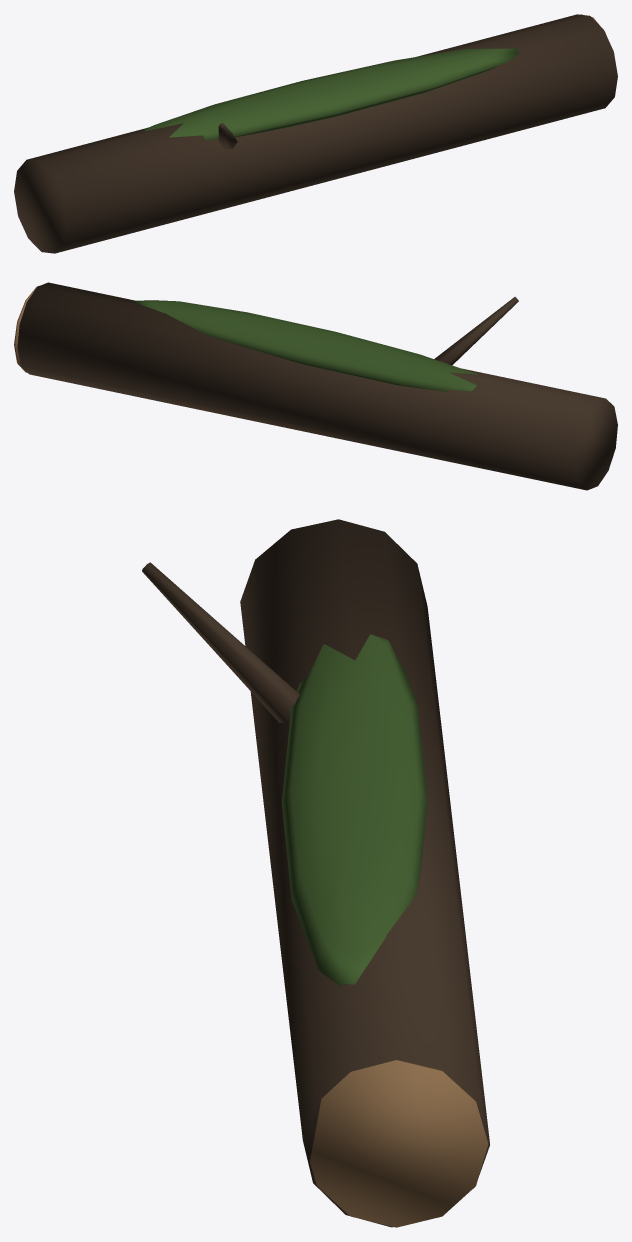
File: prop_batang_tumbang.glb
3 views of the same model, one above another, from view 1: azimuth 30°, elevation 25°; view 2: azimuth 150°, elevation 25°; view 3: azimuth 270°, elevation 25° (orthographic). The views are drawn at different scales.
Visible parts, largest first — view 1: batang_tumbang; view 2: batang_tumbang; view 3: batang_tumbang.
Boxes of the visible parts, x1,y1,x2,y2 form: batang_tumbang: (14,14,617,253); batang_tumbang: (14,282,617,490); batang_tumbang: (142,519,489,1227).
Size of the model in its own units: 6.05 by 1.37 by 1.67.
